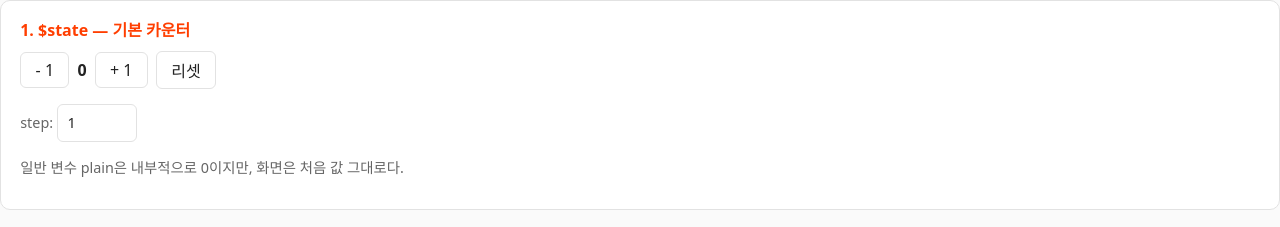
Counter (study2) › + 버튼을 누르면 step만큼 증가하고, 리셋하면 0으로 돌아간다
Click the button "+ 1": (121,70) [95, 52, 148, 88]
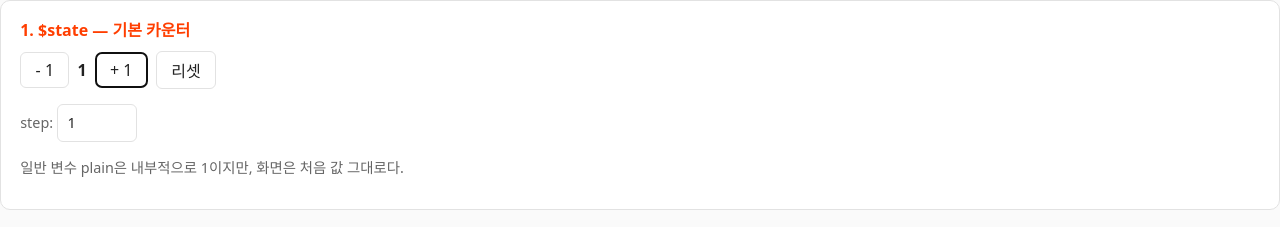
Click the button "+ 1": (121,70) [95, 52, 148, 88]
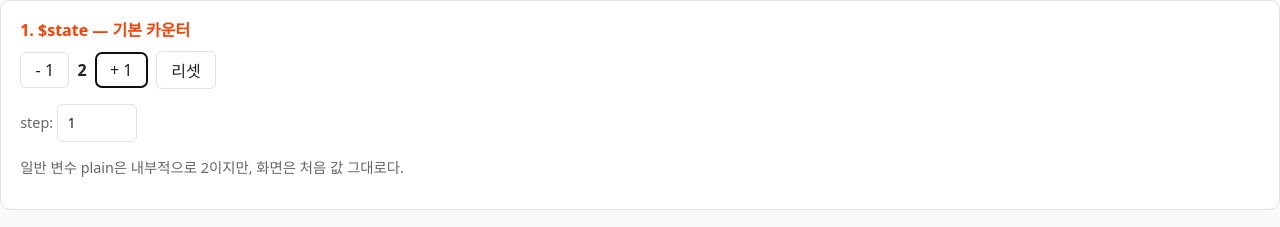
Check: the text "2" is shown, box [77, 59, 87, 81]
Click the button "리셋": (186,70) [156, 51, 216, 89]
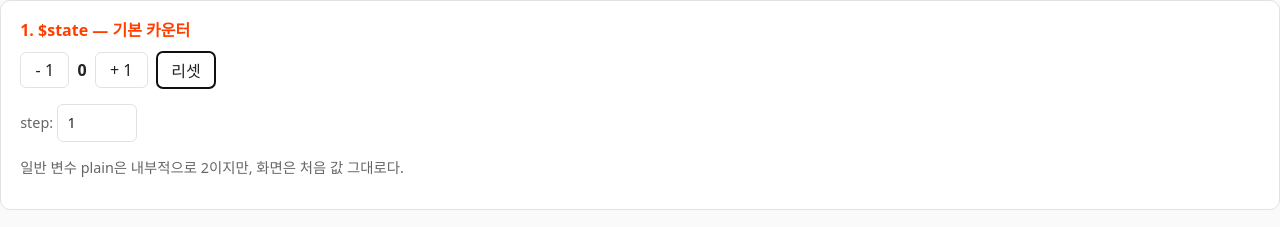
Check: the text "0" is shown, box [77, 59, 87, 81]
